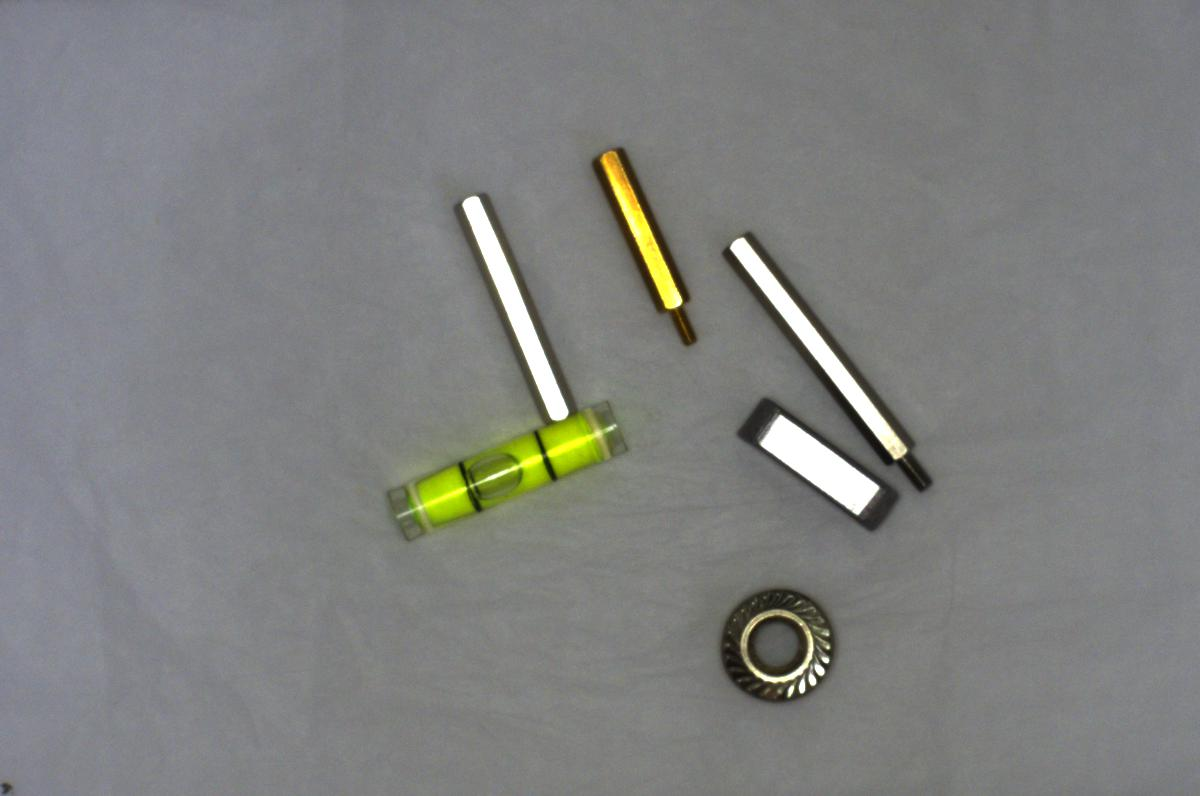Double hexagonal column: (455, 186, 574, 427)
Flange nut: (700, 577, 847, 715)
Hexagon pillar: (594, 142, 711, 354)
Hexagonal steel column: (721, 226, 943, 499)
Horizontal bubble: (384, 400, 633, 551)
Keybar: (738, 389, 906, 533)
